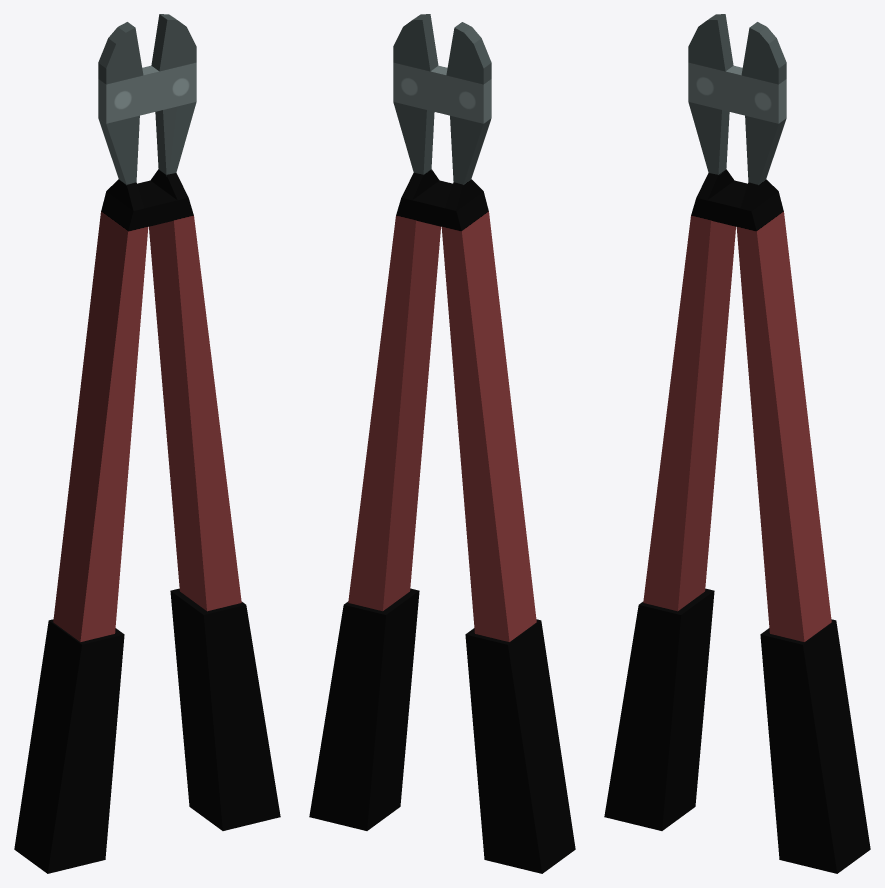
File: bolt-cutters.glb
3 views of the same model, side by side, from view 1: azimuth 30°, elevation 25°; view 2: azimuth 150°, elevation 25°; view 3: azimuth 330°, elevation 25° (orthographic).
Visible parts, largest first — view 1: handle.l; view 2: handle.l; view 3: handle.l.
Boxes of the visible parts, left/top/right/bottom form: handle.l: left=14, top=14, right=280, bottom=873; handle.l: left=309, top=14, right=575, bottom=873; handle.l: left=604, top=14, right=870, bottom=873.
Size of the model in its own units: 0.1483 by 0.4941 by 0.0368.
Materials: 1 (1 with a texture image).
